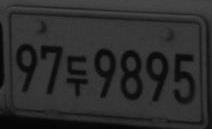5: (172, 52, 196, 105)
7: (38, 44, 64, 95)
8: (118, 48, 144, 102)
9: (144, 49, 169, 103), (13, 41, 38, 94), (92, 46, 117, 98)
두: (65, 53, 88, 97)
